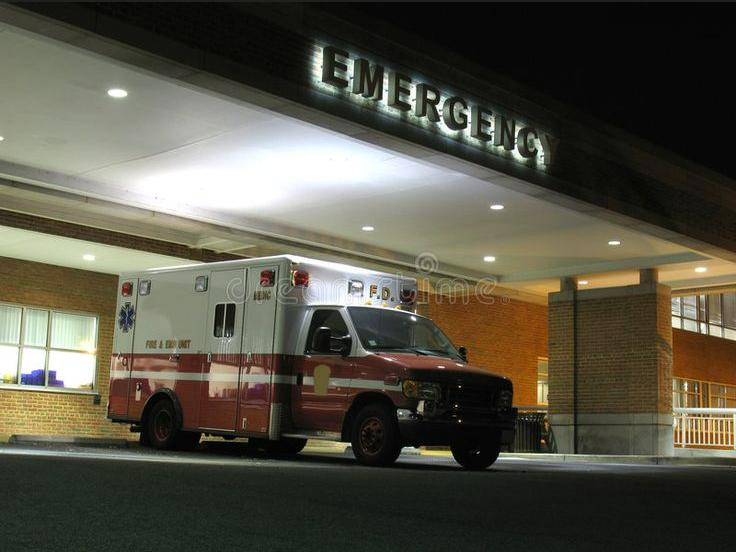ambulance_off: (108, 254, 519, 471)
